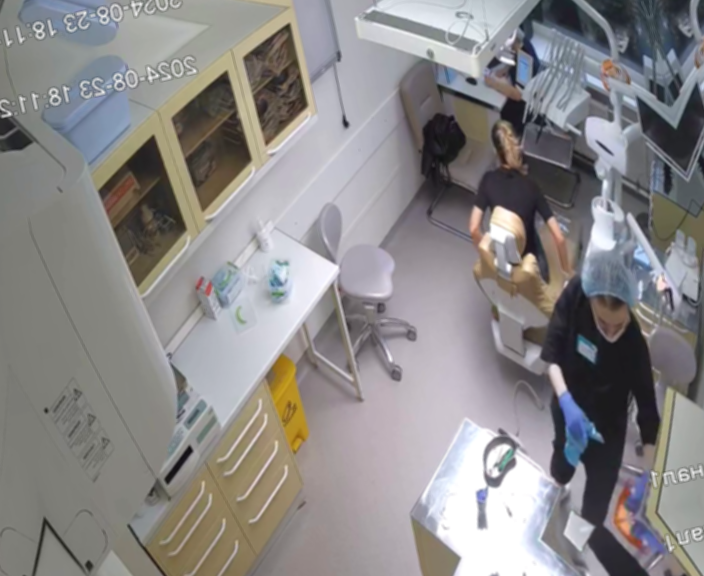Empty: (433, 113, 605, 374)
